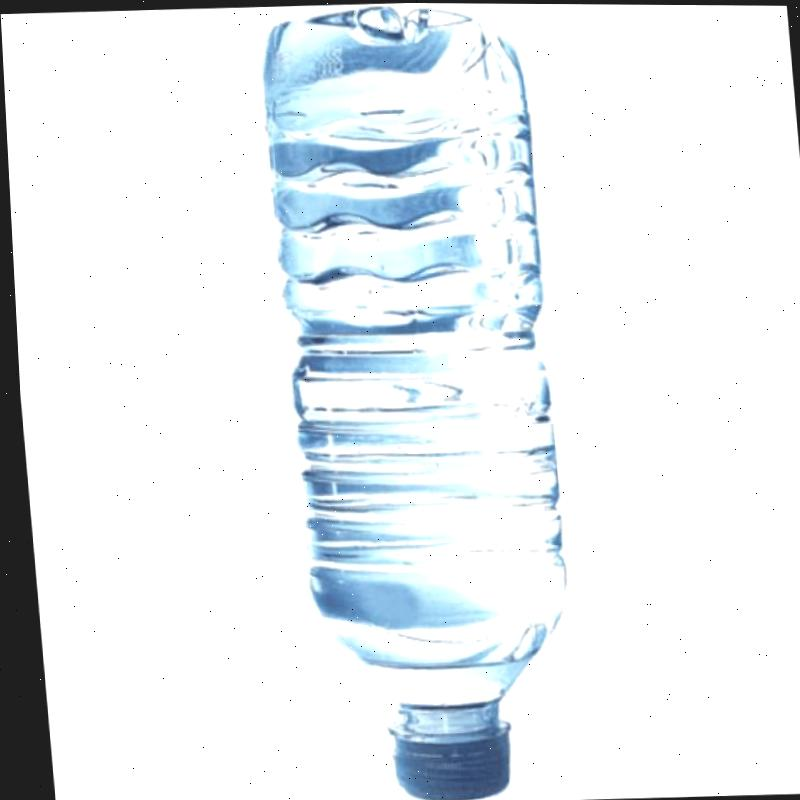botella: (259, 2, 582, 800)
